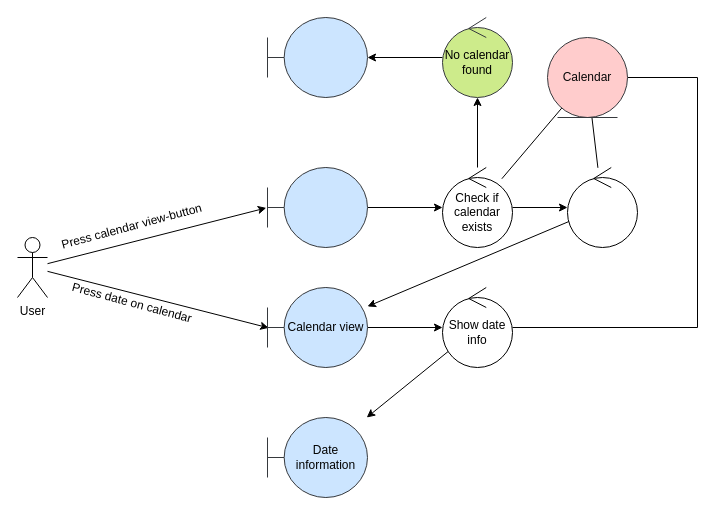
Image size: 716x515. Some labels were removed from this diagram. The shapes that lost their labels are listed below. From the top down, each one's centre as x and y in pixels, then its label:
At [317,57]: "Add calendar view".
At [317,207]: "Main menu".
At [602,207]: "Show calendar".
